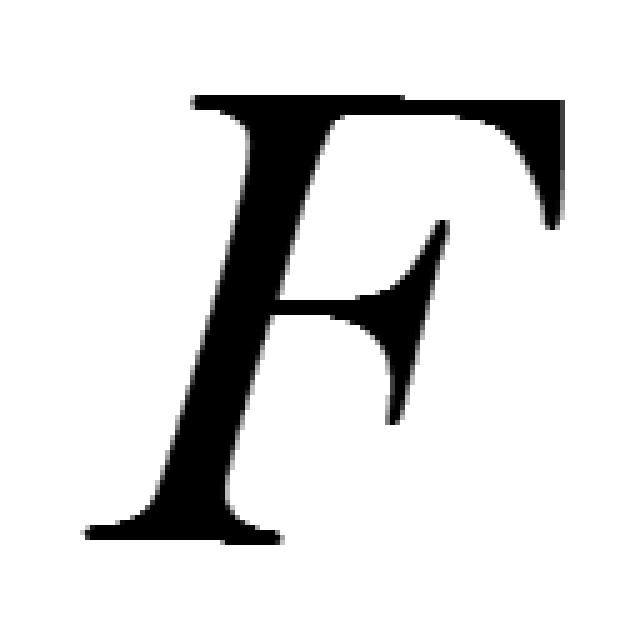F: (85, 95, 565, 545)
